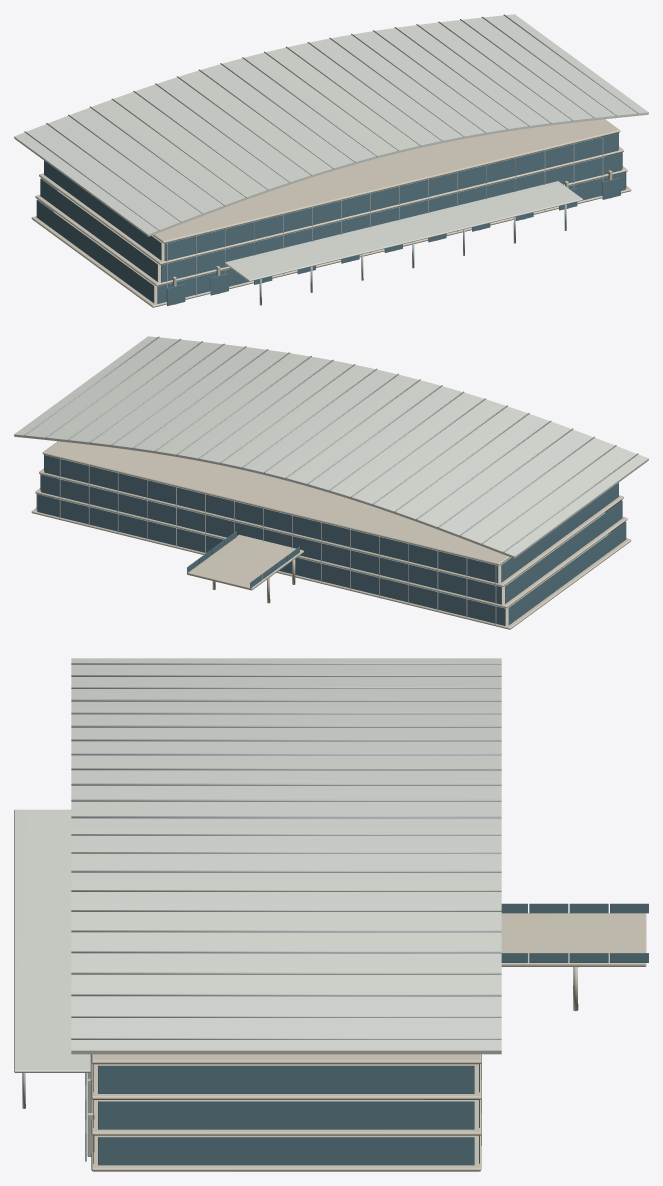
The model's file is PortTerminal.fbx.
3 renders of one model, top to bottom at view 1: azimuth 30°, elevation 25°; view 2: azimuth 150°, elevation 25°; view 3: azimuth 270°, elevation 25°, orthographic. The views are drawn at different scales.
Visible parts, largest first — view 1: Long curved terminal roof, Curtain glazing, Horizontal floor plate, Facade mullion; view 2: Long curved terminal roof, Curtain glazing, Horizontal floor plate, Facade mullion; view 3: Long curved terminal roof, Curtain glazing, Facade mullion, Horizontal floor plate.
Part boxes in pixels (<box>): Long curved terminal roof: <box>14,14,648,281</box>; Curtain glazing: <box>36,132,626,305</box>; Horizontal floor plate: <box>31,119,631,307</box>; Facade mullion: <box>24,14,638,305</box>; Long curved terminal roof: <box>14,336,648,558</box>; Curtain glazing: <box>36,454,626,625</box>; Horizontal floor plate: <box>31,441,631,629</box>; Facade mullion: <box>24,336,638,624</box>; Long curved terminal roof: <box>14,658,501,1072</box>; Curtain glazing: <box>85,903,648,1165</box>; Facade mullion: <box>22,663,501,1145</box>; Horizontal floor plate: <box>87,913,646,1171</box>.
Size of the model in its own units: 13800 by 2825 by 9440.
